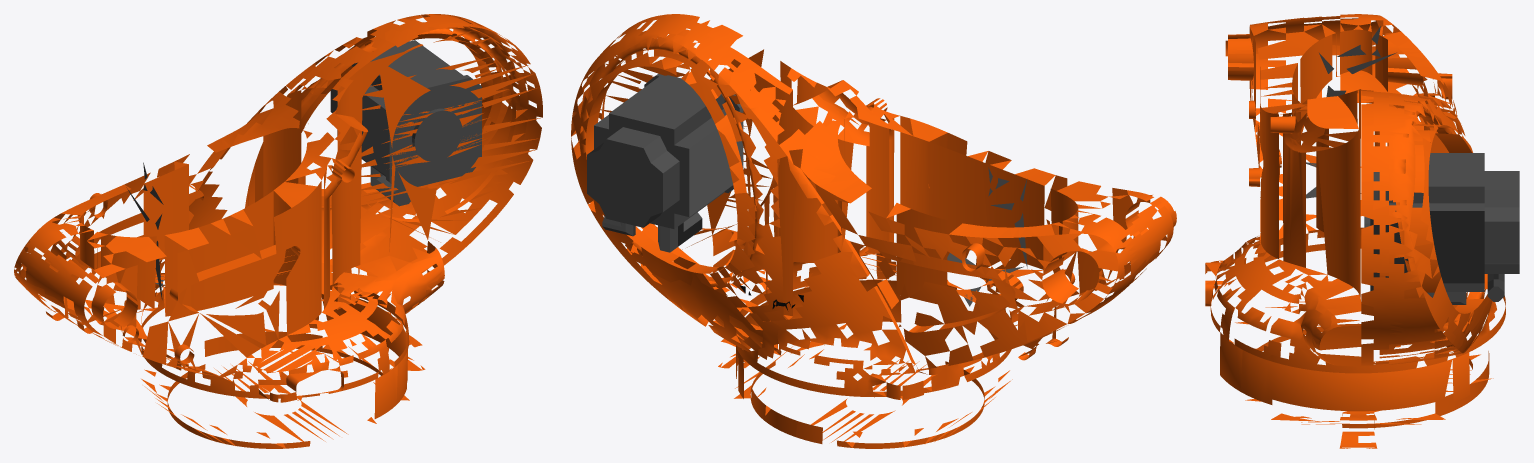
The model's file is KR210R2700prime_KRxxxprime.1_4_Rep.dae.
3 views of the same model, side by side, from view 1: azimuth 30°, elevation 25°; view 2: azimuth 150°, elevation 25°; view 3: azimuth 270°, elevation 25° (orthographic). The views are drawn at different scales.
Visible parts, largest first — view 1: KR210R2700prime_KRxxxprime.1_4 (×2); view 2: KR210R2700prime_KRxxxprime.1_4 (×2); view 3: KR210R2700prime_KRxxxprime.1_4 (×2).
Boxes of the visible parts, x1,y1,x2,y2 form: KR210R2700prime_KRxxxprime.1_4 (×2): (14, 14, 542, 448); KR210R2700prime_KRxxxprime.1_4 (×2): (571, 14, 1176, 448); KR210R2700prime_KRxxxprime.1_4 (×2): (1205, 14, 1519, 448).
Bounding box in the file's own units: 1084 × 522 × 665.
